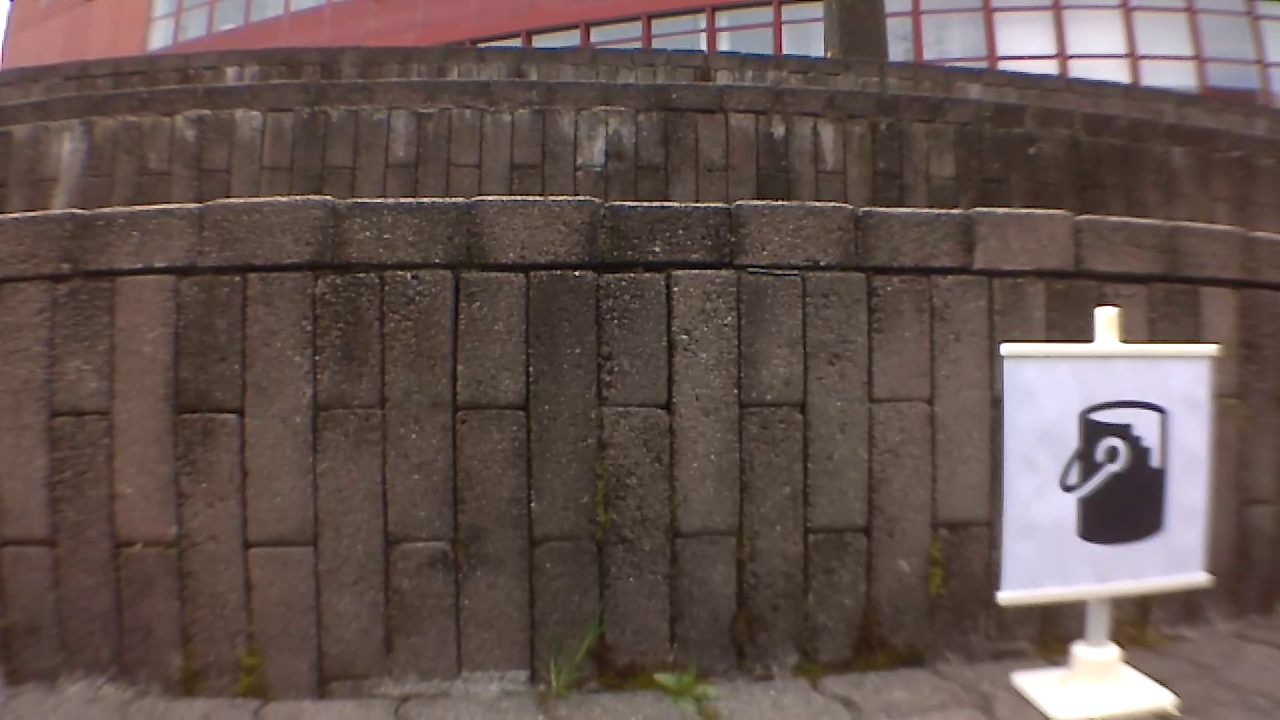bucket: (1058, 400, 1173, 551)
